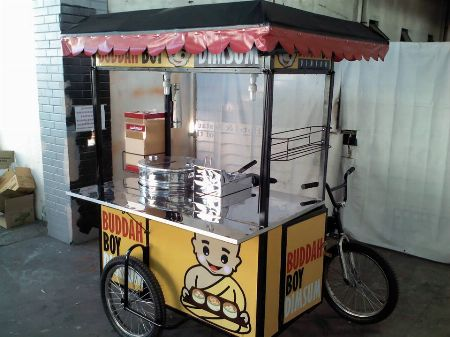bike: (304, 167, 400, 323)
box: (1, 150, 36, 225)
cart: (61, 7, 323, 335)
